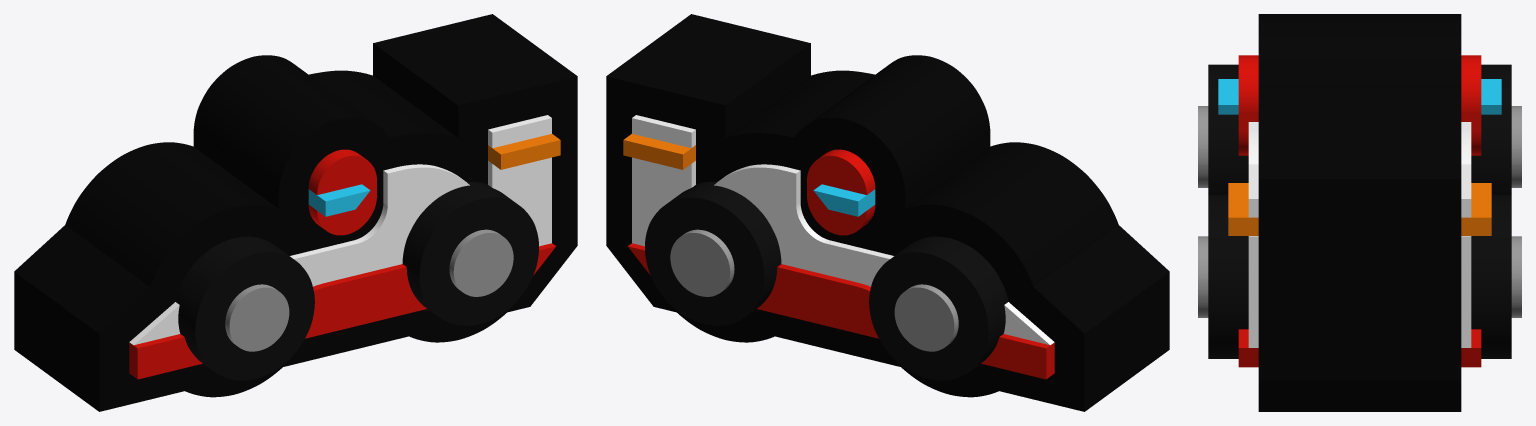
The picture shows the model from 3 angles, left to right: view 1: azimuth 30°, elevation 25°; view 2: azimuth 150°, elevation 25°; view 3: azimuth 270°, elevation 25°; orthographic projection. The views are drawn at different scales.
Parts seen in each view (by area): view 1: U+1F3CE_layer00_obj00, U+1F3CE_layer05_obj00, U+1F3CE_layer01_obj00, U+1F3CE_layer02_obj00, U+1F3CE_layer06_obj00, U+1F3CE_layer03_obj00, U+1F3CE_layer04_obj00; view 2: U+1F3CE_layer00_obj00, U+1F3CE_layer05_obj00, U+1F3CE_layer01_obj00, U+1F3CE_layer02_obj00, U+1F3CE_layer06_obj00, U+1F3CE_layer03_obj00, U+1F3CE_layer04_obj00; view 3: U+1F3CE_layer00_obj00, U+1F3CE_layer05_obj00, U+1F3CE_layer02_obj00, U+1F3CE_layer01_obj00, U+1F3CE_layer06_obj00, U+1F3CE_layer03_obj00, U+1F3CE_layer04_obj00.
Boxes of the visible parts, box(x1,y1,x2,y2) form: U+1F3CE_layer00_obj00: box(14, 14, 577, 411); U+1F3CE_layer05_obj00: box(175, 182, 538, 380); U+1F3CE_layer01_obj00: box(129, 115, 551, 345); U+1F3CE_layer02_obj00: box(129, 149, 555, 379); U+1F3CE_layer06_obj00: box(225, 229, 513, 351); U+1F3CE_layer03_obj00: box(488, 134, 560, 169); U+1F3CE_layer04_obj00: box(308, 184, 370, 216); U+1F3CE_layer00_obj00: box(606, 14, 1169, 411); U+1F3CE_layer05_obj00: box(645, 182, 1008, 380); U+1F3CE_layer01_obj00: box(632, 115, 1054, 345); U+1F3CE_layer02_obj00: box(628, 149, 1054, 379); U+1F3CE_layer06_obj00: box(670, 229, 958, 351); U+1F3CE_layer03_obj00: box(623, 134, 695, 169); U+1F3CE_layer04_obj00: box(813, 184, 875, 216); U+1F3CE_layer00_obj00: box(1258, 14, 1461, 411); U+1F3CE_layer05_obj00: box(1208, 64, 1511, 358); U+1F3CE_layer02_obj00: box(1238, 55, 1481, 367); U+1F3CE_layer01_obj00: box(1248, 122, 1471, 347); U+1F3CE_layer06_obj00: box(1198, 106, 1521, 317); U+1F3CE_layer03_obj00: box(1228, 183, 1491, 235); U+1F3CE_layer04_obj00: box(1218, 79, 1501, 114).
Size of the model in its own units: 0.6491 by 0.3245 by 0.32.
